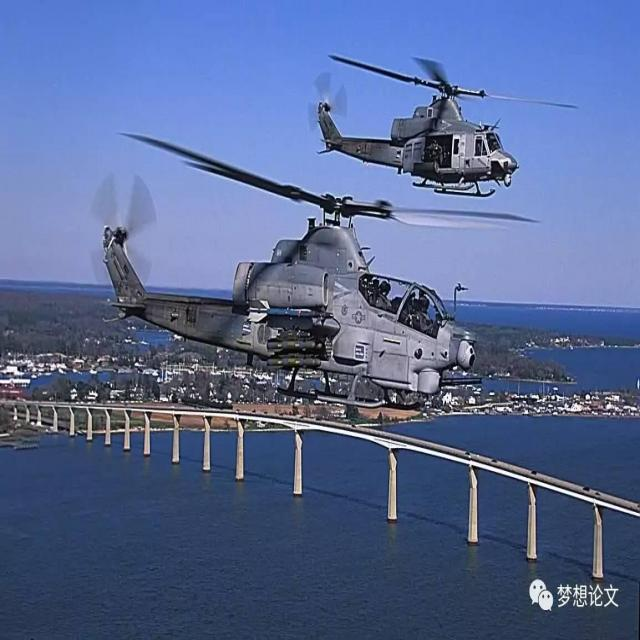MIL_HELO: (83, 122, 540, 424), (282, 28, 624, 218)
